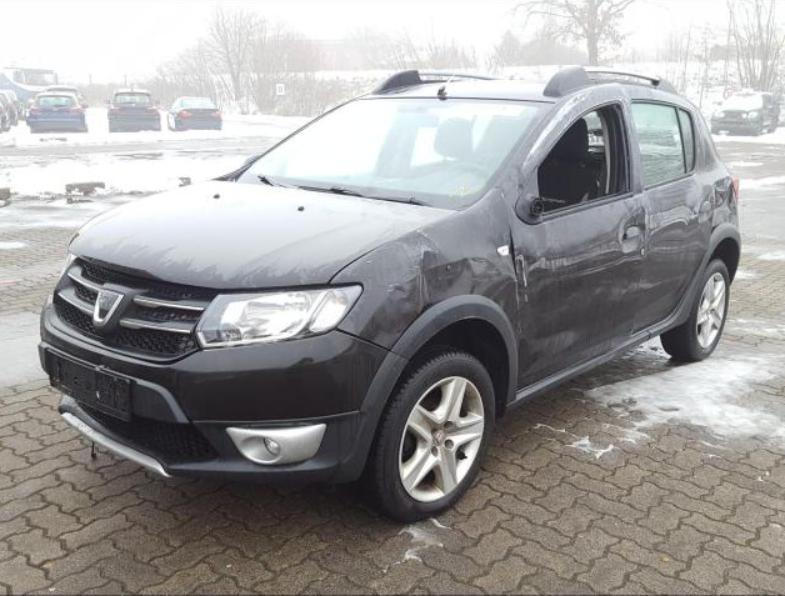Back-door: (622, 84, 715, 338)
Back-wheel: (660, 256, 730, 361)
Back-window: (630, 102, 686, 186), (680, 110, 695, 172)
Fender: (329, 189, 522, 404)
Front-bumper: (37, 295, 409, 485)
Front-door: (494, 82, 651, 391)
Front-wheel: (358, 345, 496, 521)
Grille: (50, 257, 224, 363)
Headlight: (194, 284, 363, 349), (58, 251, 78, 283)
Hood: (69, 177, 463, 289)
Mirror: (515, 194, 567, 224), (240, 155, 261, 168)
Quarter-panel: (675, 163, 742, 315)
Rocker-panel: (505, 305, 692, 416)
Roof: (352, 66, 698, 108)
Tail-light: (731, 175, 741, 205)
Windshield: (232, 99, 555, 211)
